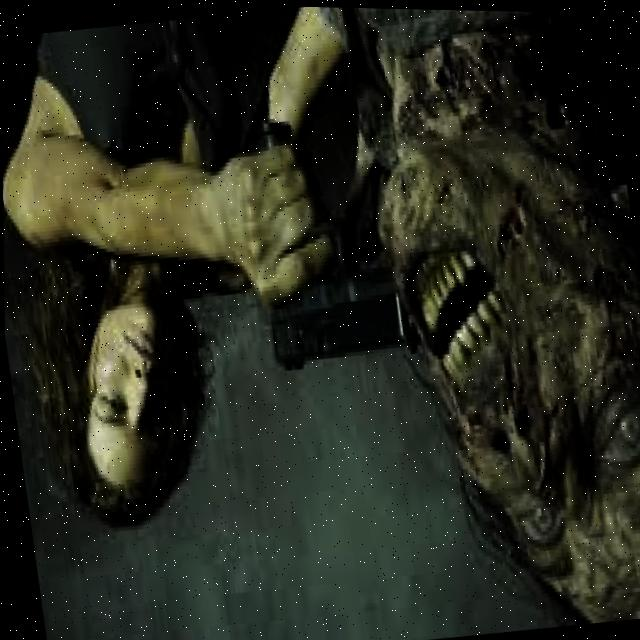pistol: (253, 205, 422, 379)
